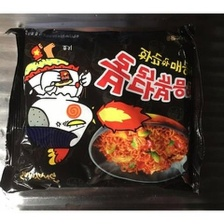snack: (0, 15, 210, 203)
